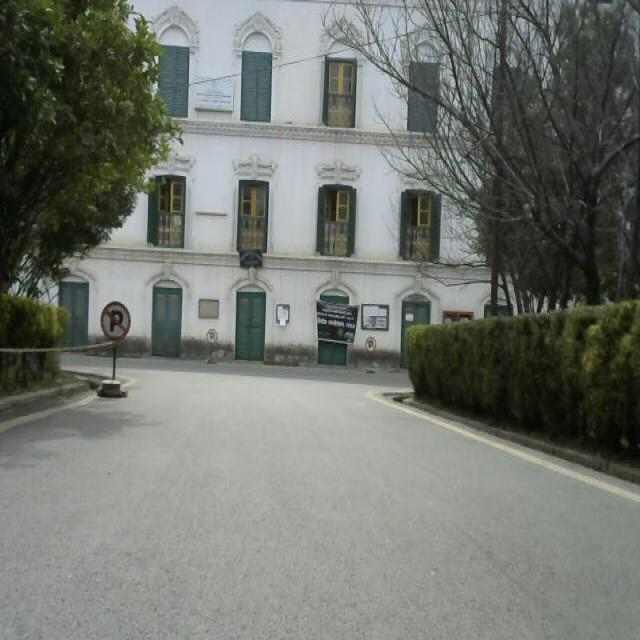Buildings: (136, 4, 460, 389)
NoParking: (101, 293, 140, 400), (356, 330, 395, 380)
Road: (0, 357, 640, 640)
trees: (370, 22, 640, 264), (3, 0, 152, 294)
